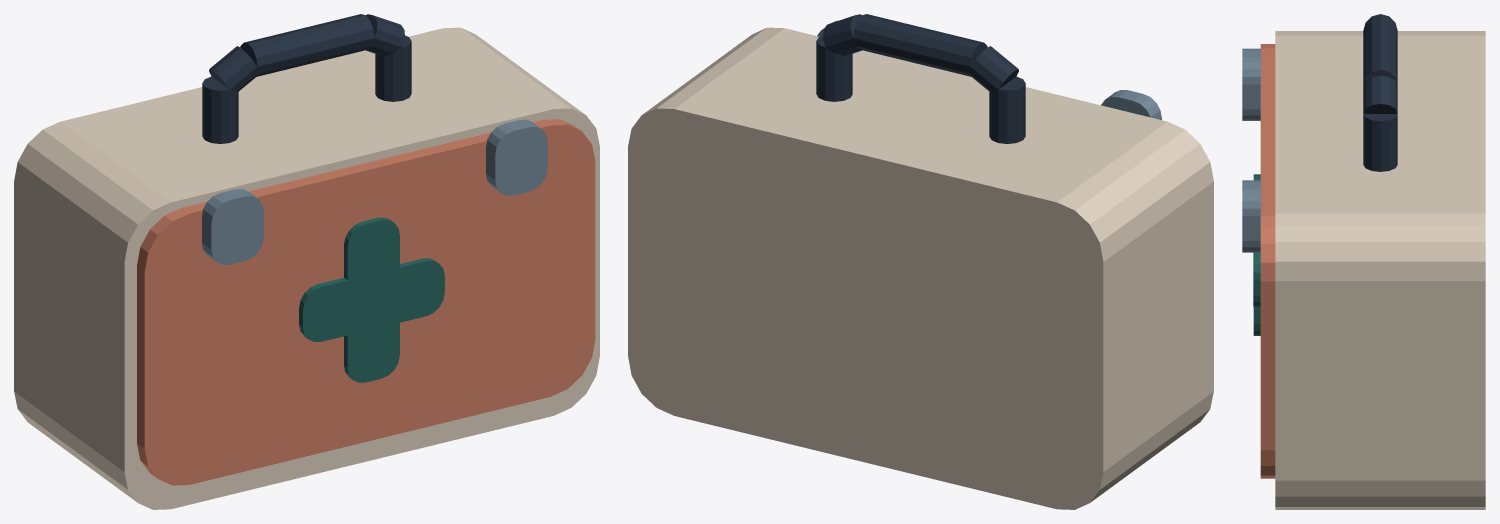
File: firstaid.glb
3 views of the same model, side by side, from view 1: azimuth 30°, elevation 25°; view 2: azimuth 150°, elevation 25°; view 3: azimuth 270°, elevation 25° (orthographic). The views are drawn at different scales.
Parts seen in each view (by area): view 1: lid, case, cross horizontal, cross vertical, carry handle2, closure 0.46, closure -0.46, carry handle0, carry handle4, carry handle1, carry handle3; view 2: case, carry handle2, carry handle0, carry handle4, carry handle1, carry handle3, closure -0.46; view 3: case, lid, carry handle2, carry handle4, closure -0.46, closure 0.46, carry handle3, cross horizontal, cross vertical.
Boxes of the visible parts, x1,y1,x2,y2 form: lid: [137, 119, 595, 485]; case: [14, 27, 599, 509]; cross horizontal: [299, 258, 444, 341]; cross vertical: [344, 217, 399, 382]; carry handle2: [240, 14, 374, 76]; closure 0.46: [486, 119, 547, 195]; closure -0.46: [202, 189, 263, 264]; carry handle0: [202, 76, 238, 143]; carry handle4: [375, 35, 411, 101]; carry handle1: [209, 46, 258, 91]; carry handle3: [366, 14, 404, 55]; case: [628, 27, 1213, 509]; carry handle2: [853, 14, 987, 76]; carry handle0: [989, 76, 1025, 143]; carry handle4: [816, 35, 852, 101]; carry handle1: [969, 46, 1018, 91]; carry handle3: [823, 14, 861, 55]; closure -0.46: [1101, 90, 1161, 119]; case: [1275, 31, 1485, 509]; lid: [1260, 44, 1275, 478]; carry handle2: [1363, 15, 1397, 84]; carry handle4: [1363, 114, 1397, 171]; closure -0.46: [1242, 48, 1260, 120]; closure 0.46: [1242, 180, 1260, 252]; carry handle3: [1363, 75, 1397, 113]; cross horizontal: [1253, 252, 1260, 307]; cross vertical: [1253, 174, 1260, 335].
Bounding box in the file's own units: 1.54 × 1.22 × 0.7175.
